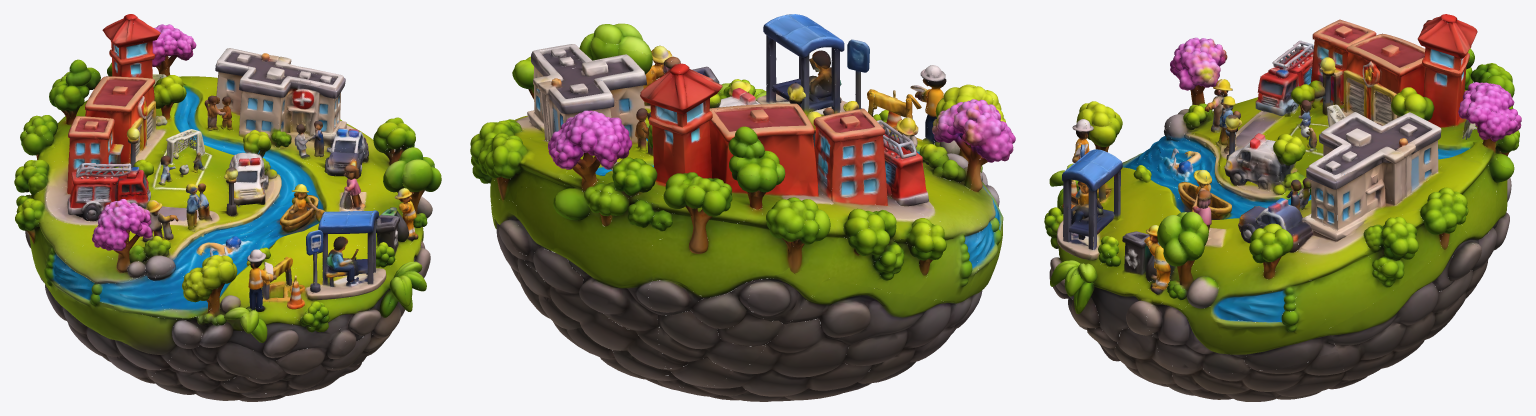
The model's file is planeta.glb.
The picture shows the model from 3 angles, left to right: view 1: azimuth 30°, elevation 25°; view 2: azimuth 150°, elevation 25°; view 3: azimuth 270°, elevation 25°; orthographic projection. The views are drawn at different scales.
Parts seen in each view (by area): view 1: SM_Planeta; view 2: SM_Planeta; view 3: SM_Planeta.
Part boxes in pixels (x1,y1,x2,y2): SM_Planeta: (14,14,441,401); SM_Planeta: (470,14,1015,401); SM_Planeta: (1044,14,1521,401).
Bounding box in the file's own units: 2.19 × 1.74 × 2.18.
1 material, 1 textured.
